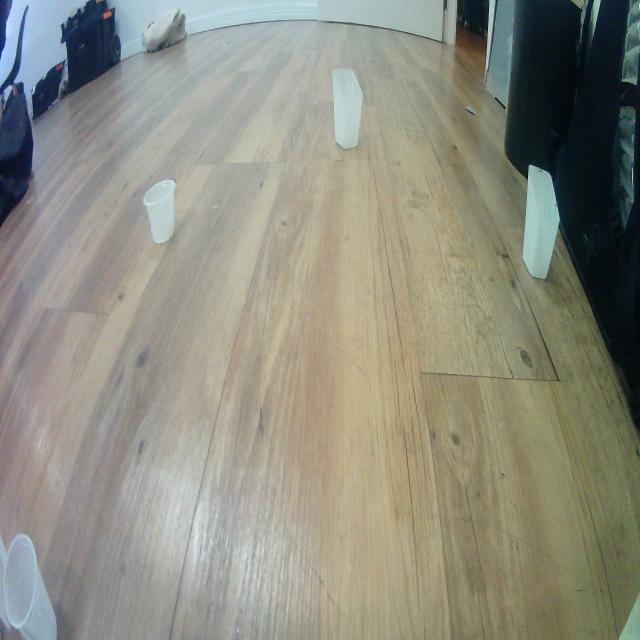erva_daninha: (522, 164, 560, 280), (332, 66, 364, 150)
planta: (0, 532, 58, 640), (143, 179, 176, 245)
